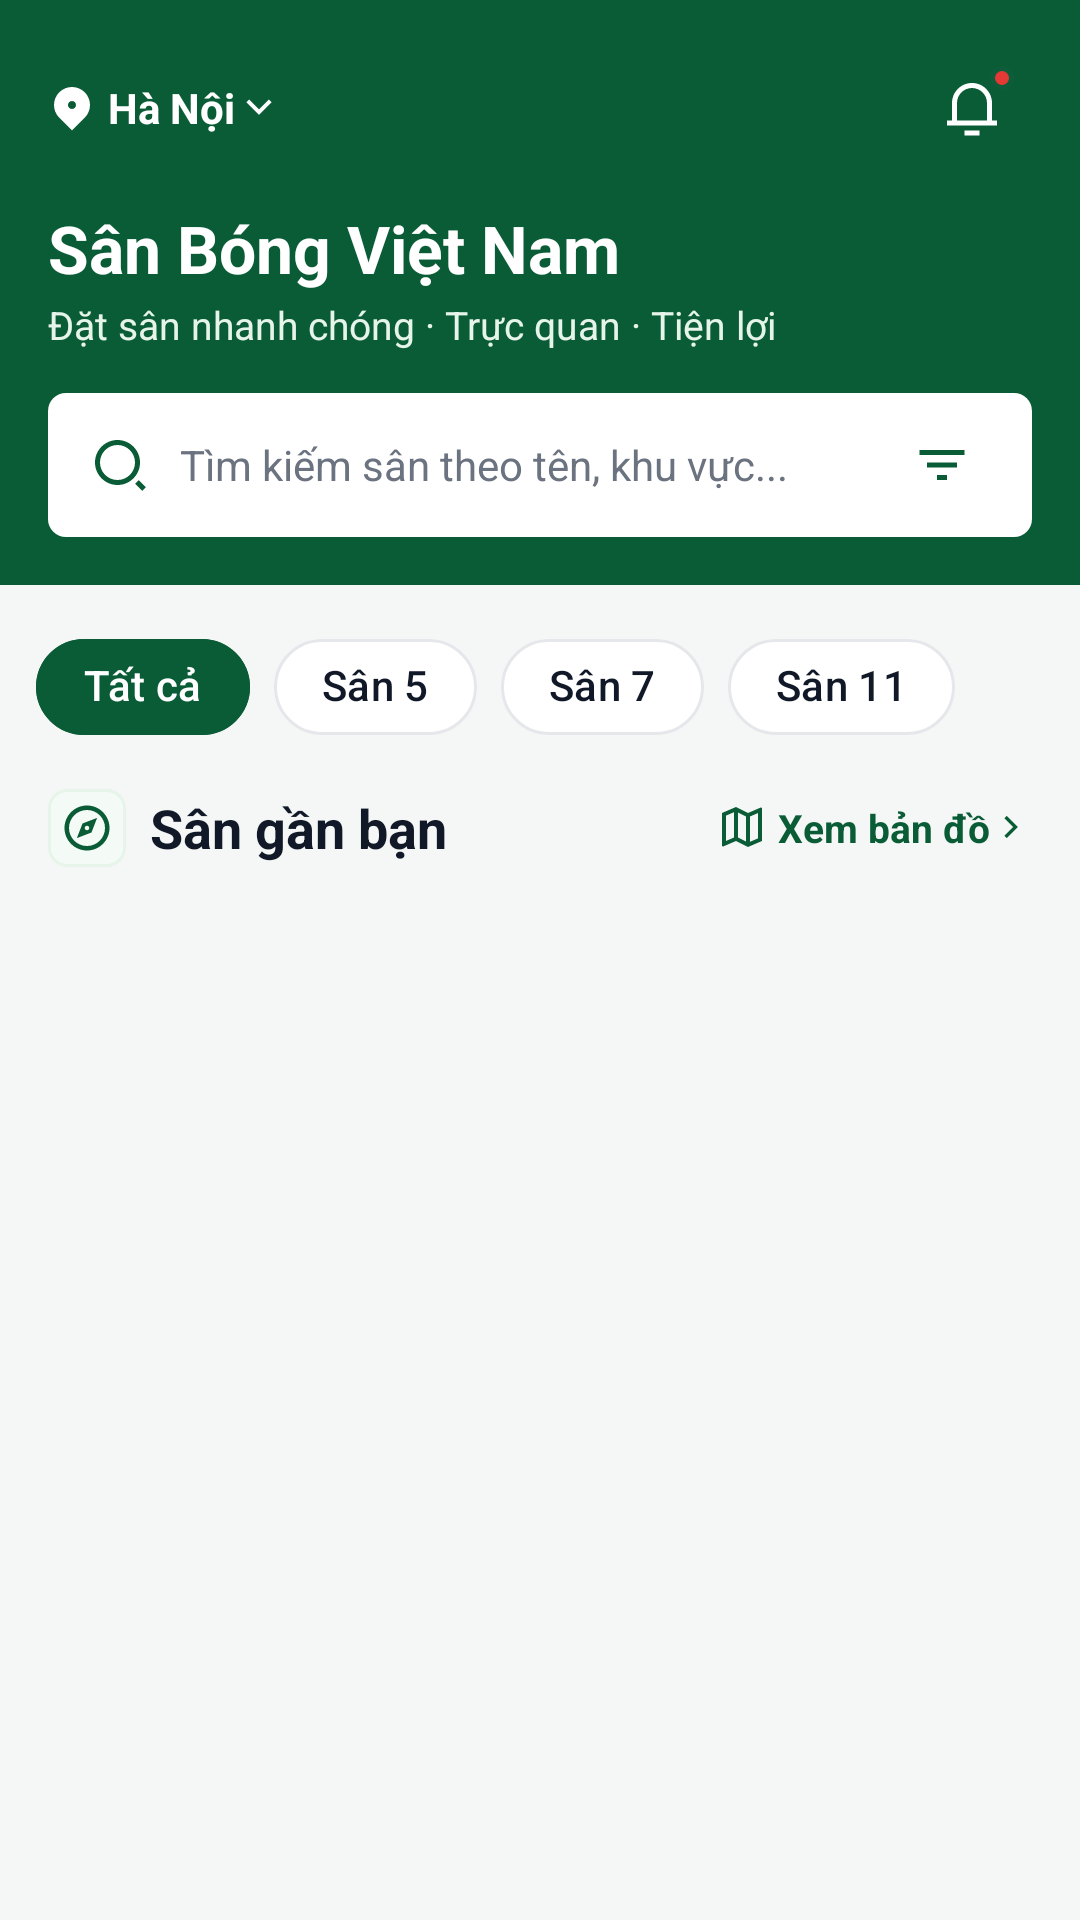

Named icons in this screenshot (1080×1920) and their centers, [x,y]:
ri arrow down: [259,107]
ri filter: [942,465]
ri map: [742,827]
ri map pin: [72,108]
ri navigation: [87,828]
ri notification: [972,109]
ri search: [120,465]
